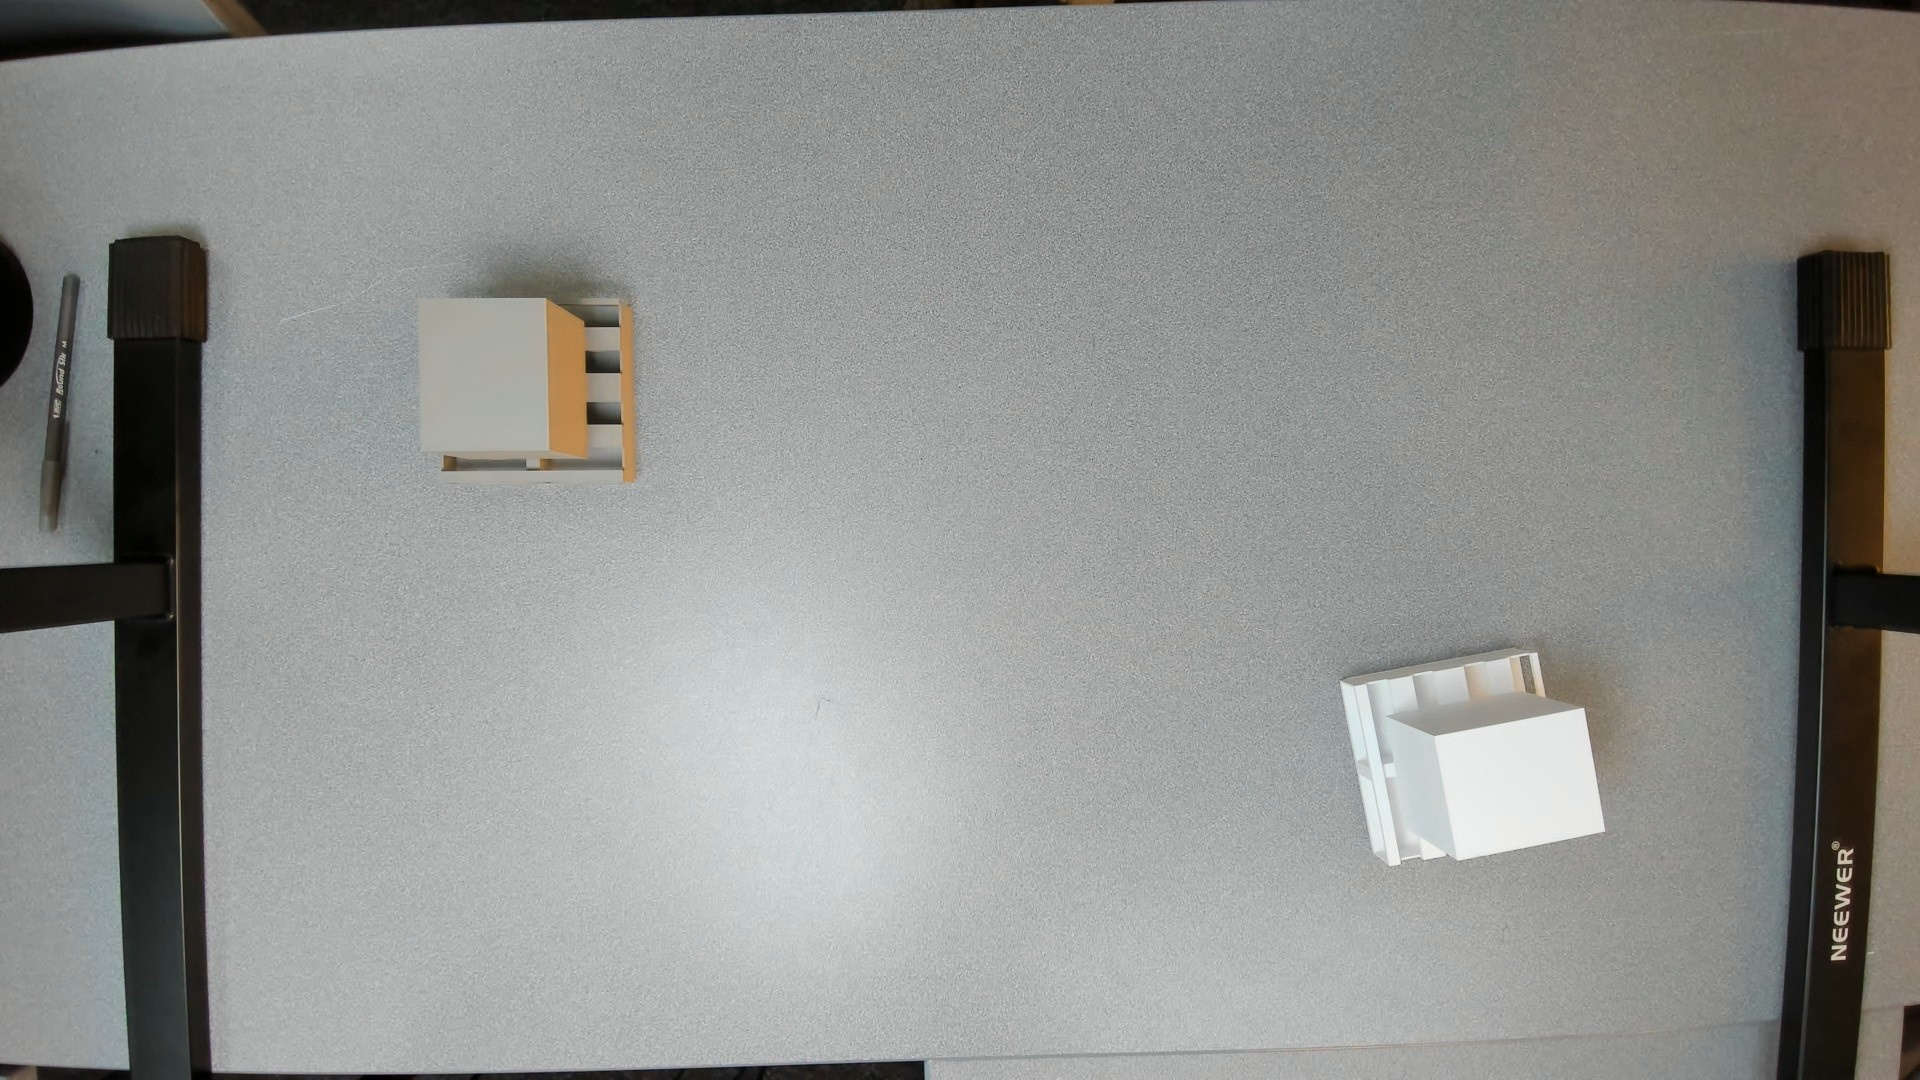grey pallet: (400, 284, 659, 498)
white pallet: (1332, 637, 1615, 886)
